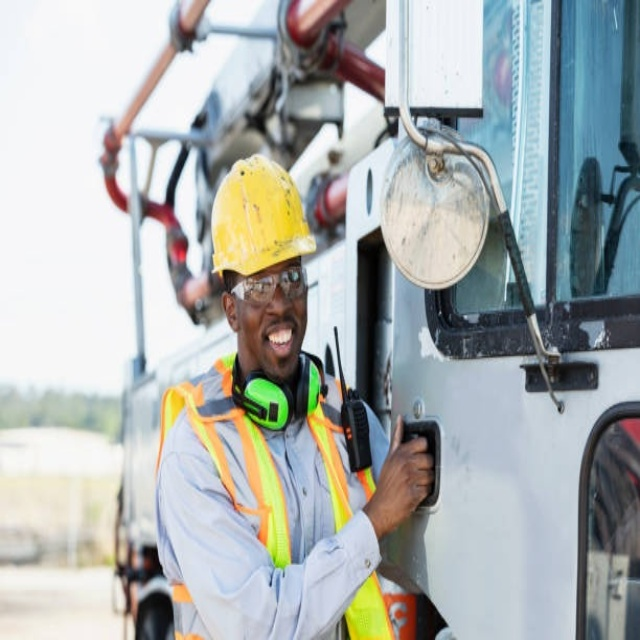Gafas: (227, 262, 308, 306)
Sin_guantes: (369, 410, 436, 536)
Sin_mascara: (260, 315, 299, 367)
